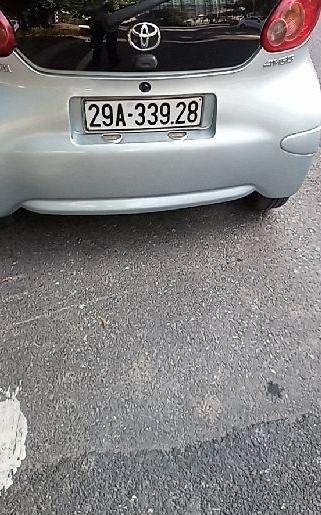Plate-iWeP: (84, 99, 206, 130)
